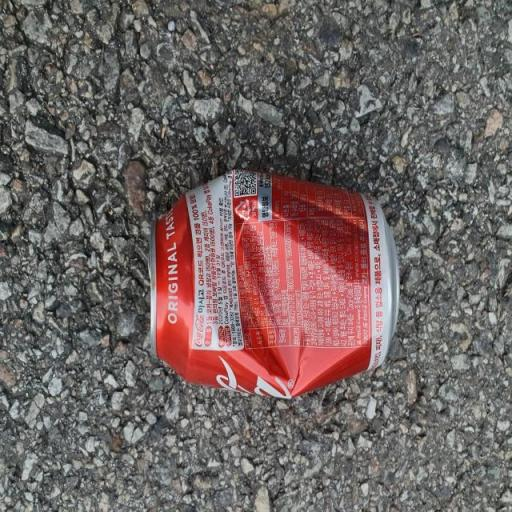metal: (123, 152, 416, 423)
